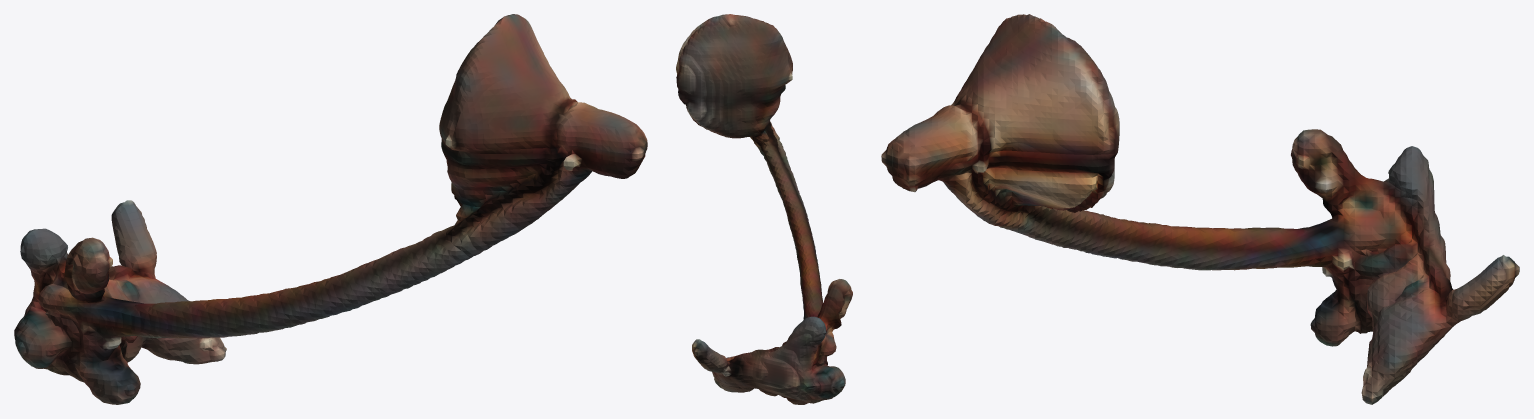
The picture shows the model from 3 angles, left to right: view 1: azimuth 30°, elevation 25°; view 2: azimuth 150°, elevation 25°; view 3: azimuth 270°, elevation 25°; orthographic projection. The views are drawn at different scales.
Size of the model in its own units: 0.6099 by 0.602 by 0.762.
